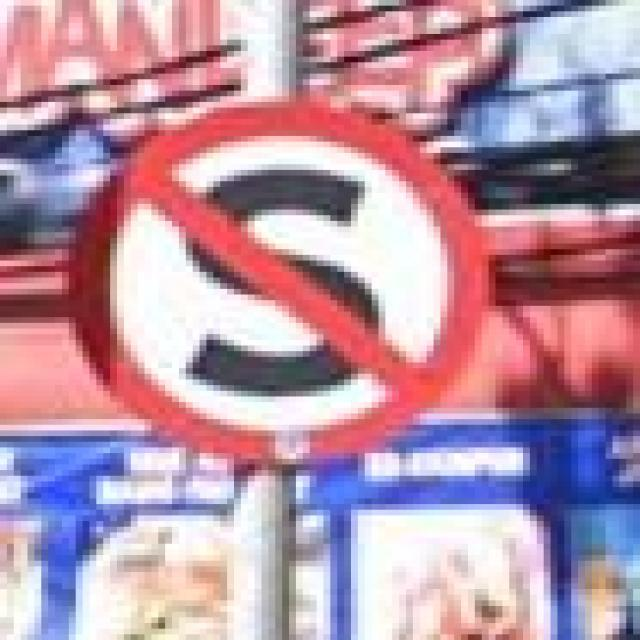traffic sign: (69, 102, 489, 464)
